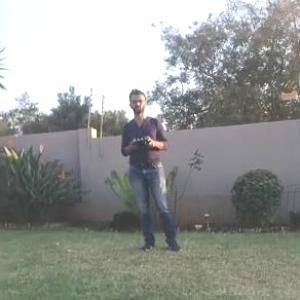follow: (118, 83, 189, 254)
